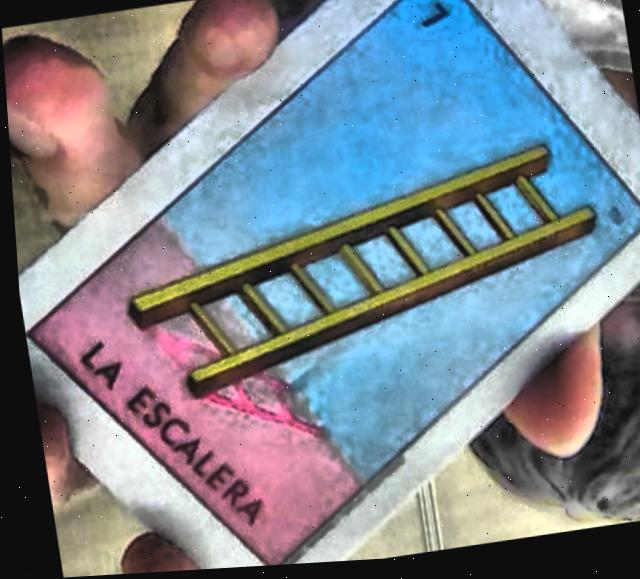La Escalera: (22, 0, 640, 568)
